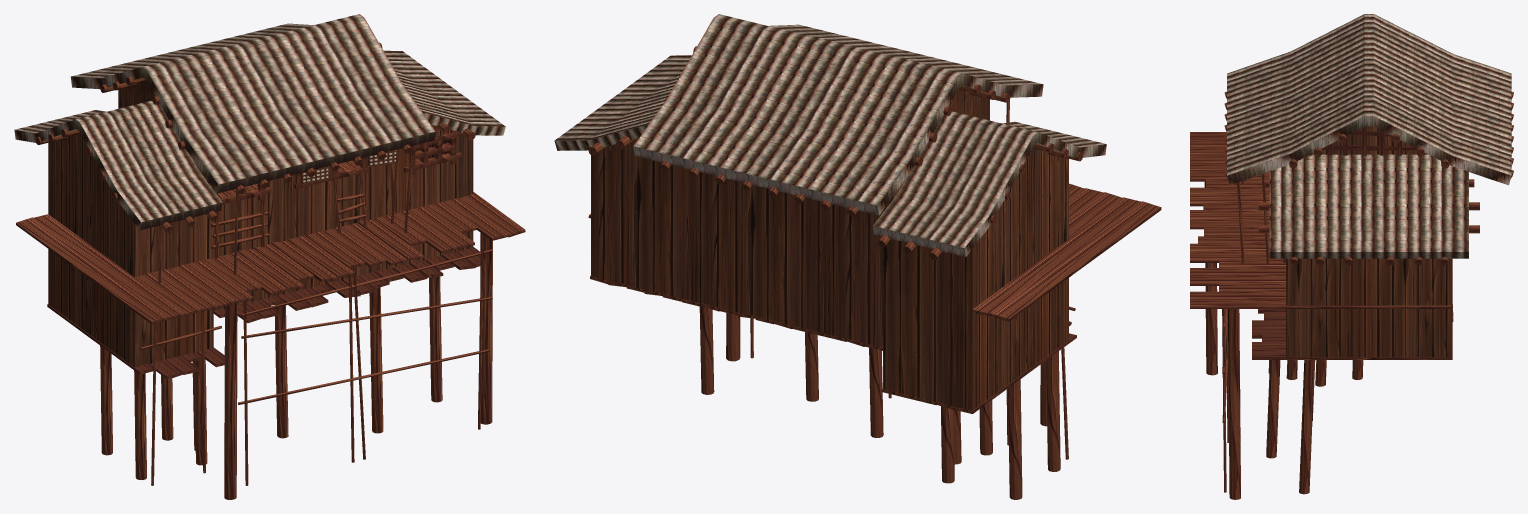
File: house3.fbx
The picture shows the model from 3 angles, left to right: view 1: azimuth 30°, elevation 25°; view 2: azimuth 150°, elevation 25°; view 3: azimuth 270°, elevation 25°; orthographic projection. The views are drawn at different scales.
Parts seen in each view (by area): view 1: roofMain, base, roofMain1, roofSide, planksUpperLeve22, houseSupport15, planksUpperLeve23, houseSupport16, houseSupport23, houseSupport22, houseSupport24, houseSupport17 (+32 smaller); view 2: base, roofMain, roofMain1, roofSide, planksUpperLeve22, planksUpperLeve23, houseSupport17, houseSupport18, houseSupport22, houseSupport24, houseSupport19, houseSupport23 (+3 smaller); view 3: roofMain, roofSide, base, houseSupport16, planksUpperLeve2, houseSupport24, houseSupport23, houseSupport15, planksUpperLeve5, planksUpperLeve3, pCube31, planksUpperLeve8 (+15 smaller).
Boxes of the visible parts, box(x1,y1,x2,y2) form: roofMain: box(70, 14, 435, 193); base: box(48, 81, 473, 367); roofMain1: box(14, 100, 222, 230); roofSide: box(291, 29, 505, 135); planksUpperLeve22: box(16, 217, 168, 324); houseSupport15: box(224, 303, 237, 499); planksUpperLeve23: box(33, 214, 185, 319); houseSupport16: box(480, 233, 492, 424); houseSupport23: box(369, 287, 383, 433); houseSupport22: box(275, 302, 288, 438); houseSupport24: box(429, 276, 442, 402); houseSupport17: box(134, 370, 146, 479); base: box(591, 89, 1068, 410); roofMain: box(633, 14, 1043, 215); roofMain1: box(873, 111, 1106, 256); roofSide: box(554, 55, 691, 150); planksUpperLeve22: box(990, 201, 1161, 321); planksUpperLeve23: box(972, 197, 1141, 316); houseSupport17: box(1046, 351, 1060, 471); houseSupport18: box(1008, 379, 1022, 499); houseSupport22: box(869, 347, 883, 437); houseSupport24: box(699, 305, 714, 394); houseSupport19: box(941, 406, 954, 483); houseSupport23: box(805, 332, 818, 401); roofMain: box(1227, 14, 1511, 185); roofSide: box(1269, 152, 1468, 258); base: box(1286, 126, 1452, 357); houseSupport16: box(1228, 309, 1240, 499); planksUpperLeve2: box(1190, 300, 1451, 308); houseSupport24: box(1299, 360, 1314, 494); houseSupport23: box(1266, 360, 1280, 458); houseSupport15: box(1204, 181, 1217, 375); planksUpperLeve5: box(1190, 275, 1286, 285); planksUpperLeve3: box(1190, 291, 1286, 299); pCube31: box(1252, 351, 1452, 359); planksUpperLeve8: box(1190, 251, 1283, 262).
Size of the model in its own units: 16.85 by 15.11 by 12.34.
Materials: 7 (7 with a texture image).
